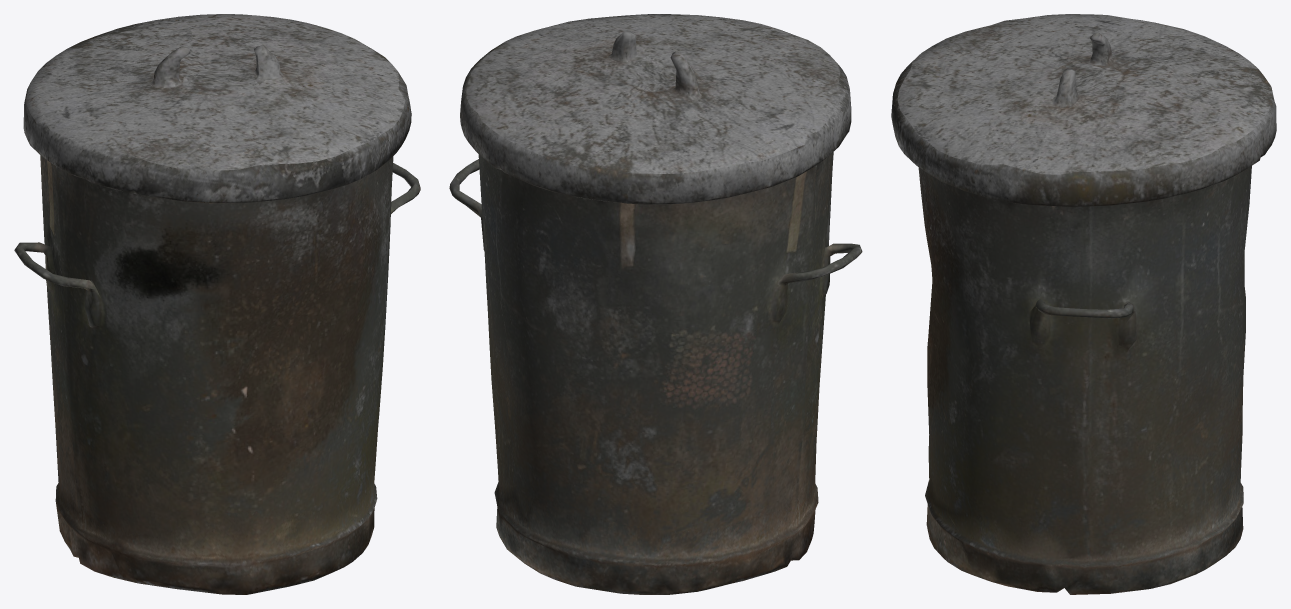
File: TrashBin01.fbx
3 renders of one model, left to right at view 1: azimuth 30°, elevation 25°; view 2: azimuth 150°, elevation 25°; view 3: azimuth 270°, elevation 25°, orthographic.
Parts seen in each view (by area): view 1: TrashBin01, TrashBin01-Lid; view 2: TrashBin01, TrashBin01-Lid; view 3: TrashBin01, TrashBin01-Lid.
Part boxes in pixels (x1,y1,x2,y2): TrashBin01: (14, 155, 420, 594); TrashBin01-Lid: (23, 14, 411, 203); TrashBin01: (449, 152, 862, 594); TrashBin01-Lid: (460, 14, 851, 204); TrashBin01: (918, 166, 1251, 594); TrashBin01-Lid: (891, 14, 1276, 206).
Size of the model in its own units: 0.5004 by 0.6056 by 0.4368.
